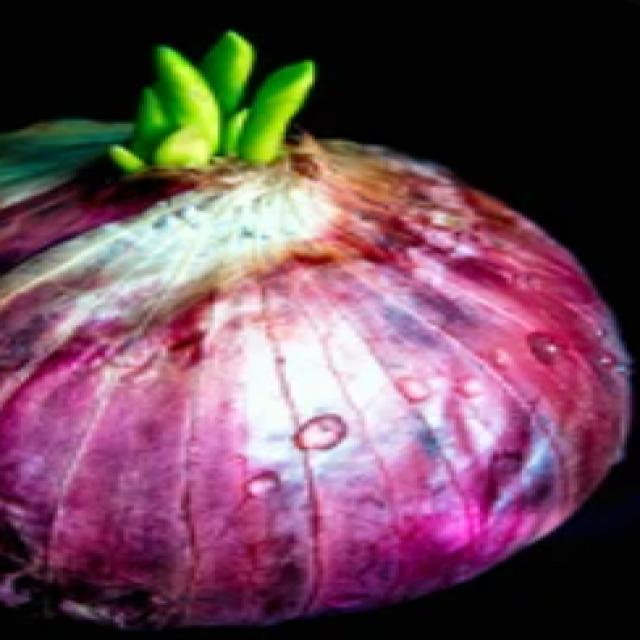sprouting: (116, 44, 302, 184)
